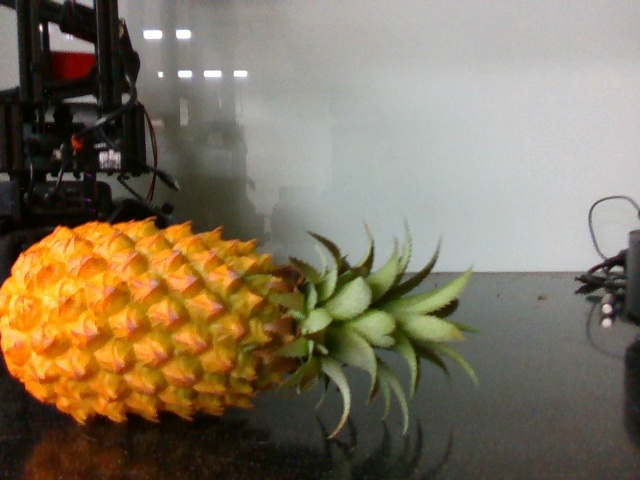pineapple: (7, 214, 480, 421)
